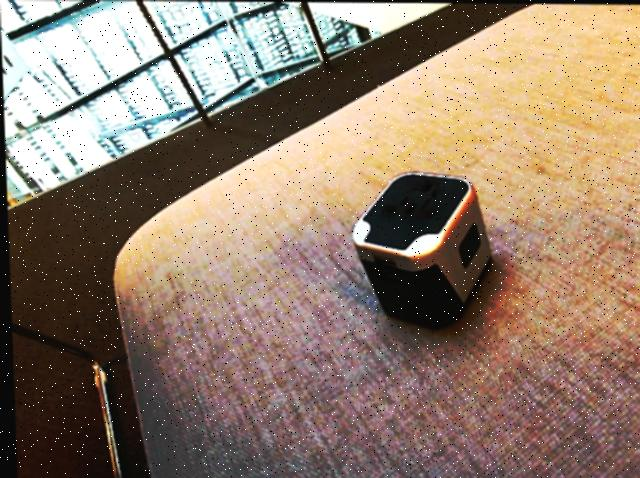adapter: (347, 169, 491, 330)
